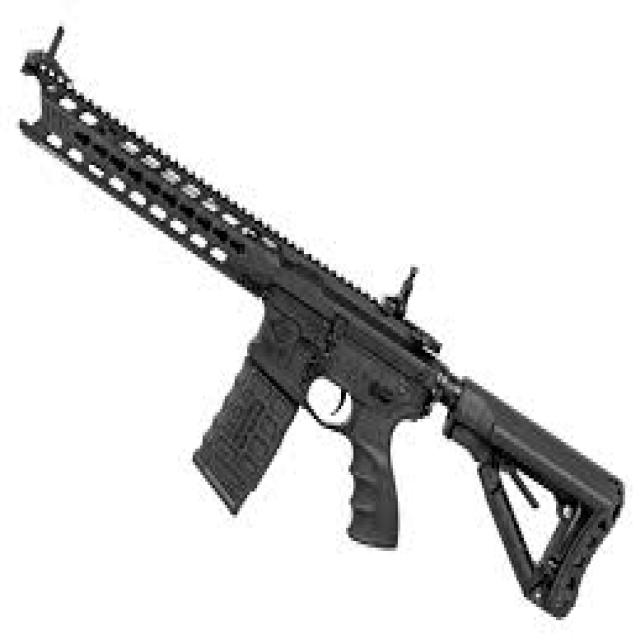rifle: (14, 15, 633, 637)
